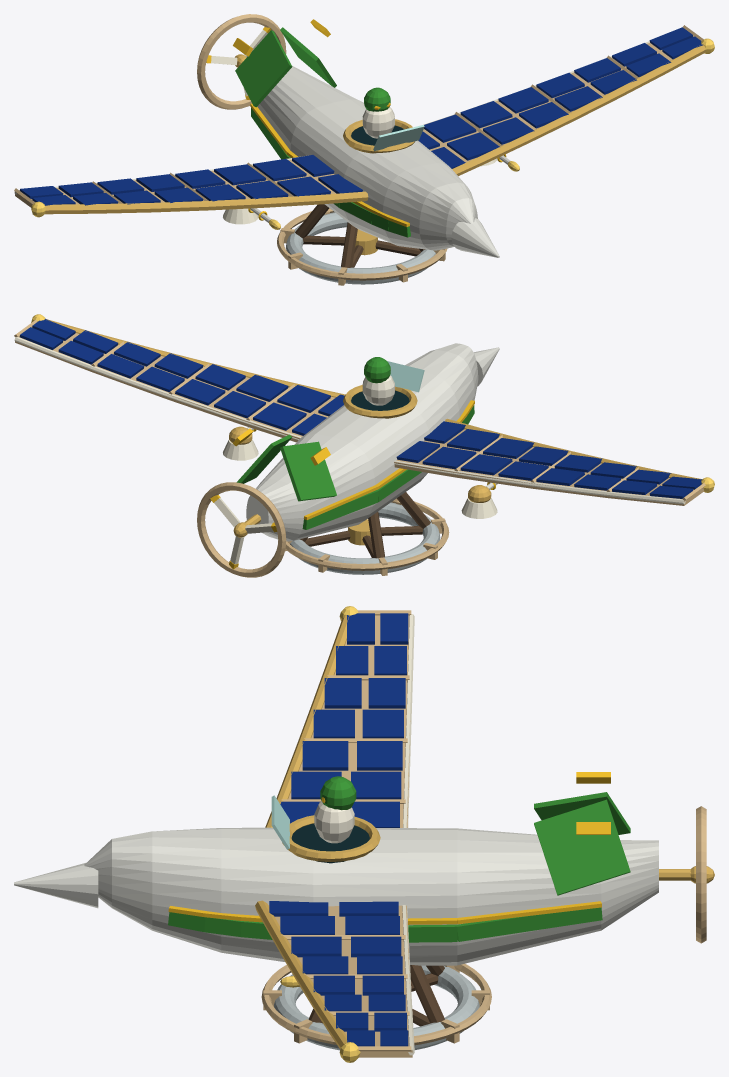
File: fighter.obj
The picture shows the model from 3 angles, top to bottom: view 1: azimuth 30°, elevation 25°; view 2: azimuth 150°, elevation 25°; view 3: azimuth 270°, elevation 25°; orthographic projection. The views are drawn at different scales.
Parts seen in each view (by area): view 1: fighter; view 2: fighter; view 3: fighter.
Boxes of the visible parts, x1,y1,x2,y2 form: fighter: (14,14,714,285); fighter: (14,314,714,577); fighter: (14,606,714,1062).
Size of the model in its own units: 45 by 11.11 by 29.97.
1 material, 1 textured.
